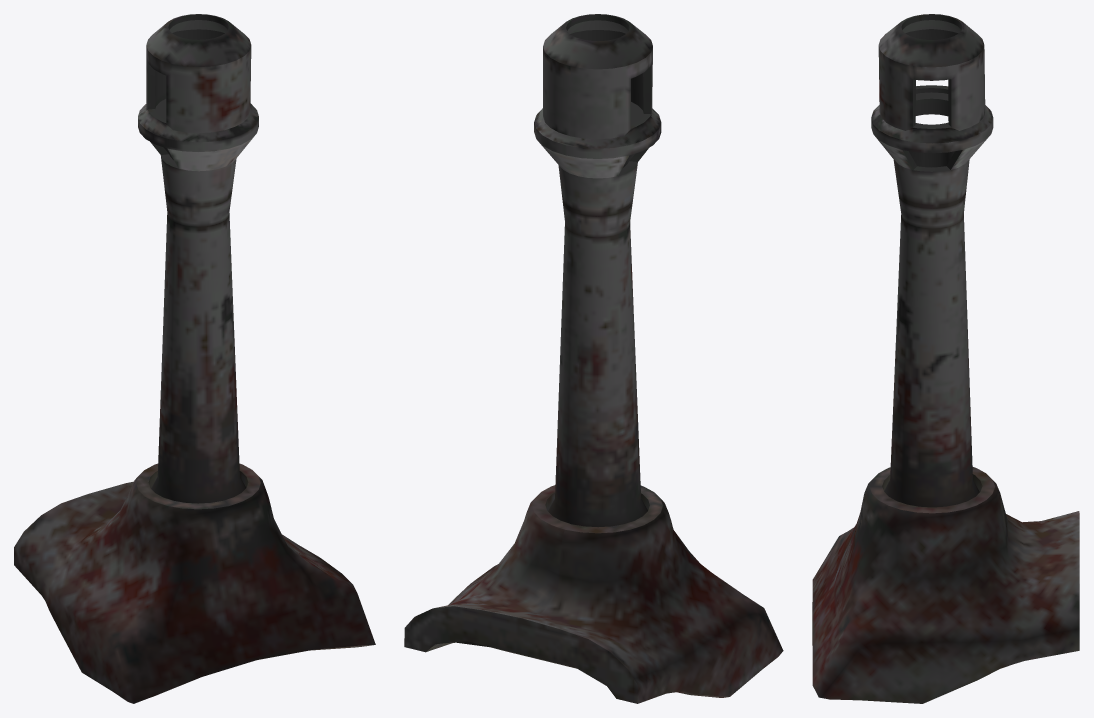
The model's file is Gun_11.glb.
3 renders of one model, left to right at view 1: azimuth 30°, elevation 25°; view 2: azimuth 150°, elevation 25°; view 3: azimuth 270°, elevation 25°, orthographic. The views are drawn at different scales.
Visible parts, largest first — view 1: set_0_group_0; view 2: set_0_group_0; view 3: set_0_group_0.
Boxes of the visible parts, <box> form: set_0_group_0: <box>14,14,375,703</box>; set_0_group_0: <box>404,14,783,703</box>; set_0_group_0: <box>812,14,1079,703</box>.
Bounding box in the file's own units: 0.6984 × 1.69 × 0.6601.
Materials: 1 (1 with a texture image).
